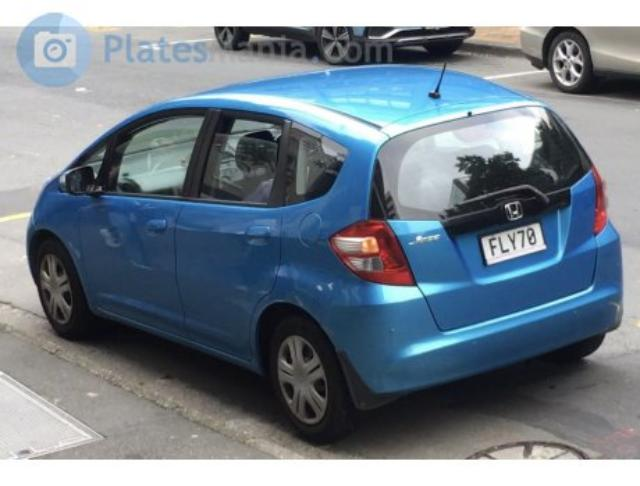Rego: (480, 222, 546, 265)
